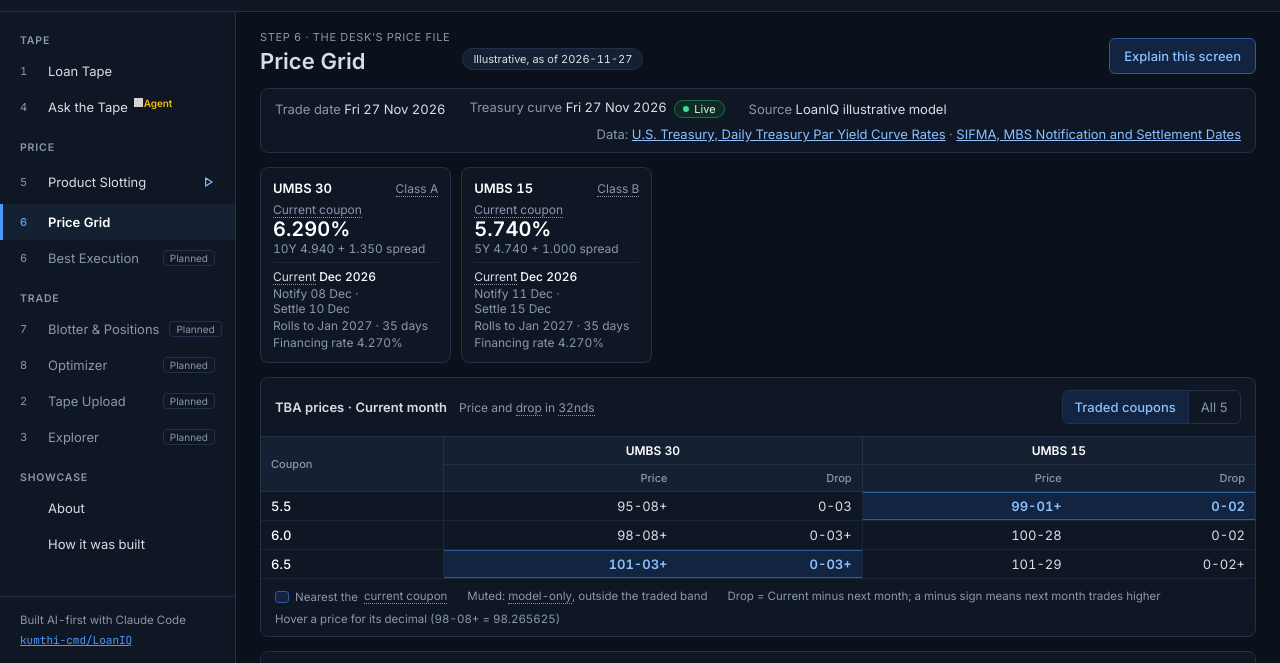
PriceGridScreen › opens the explanation with the Price Grid's terms
The width and height of the screenshot is (1280, 663).
Check: the text "Illustrative, as of 2026-11-27" is shown, box [462,48,643,70]
Step 1. Click the button "Explain this screen" → (1183, 56), box [1109,38,1256,74]
(page scrolled)
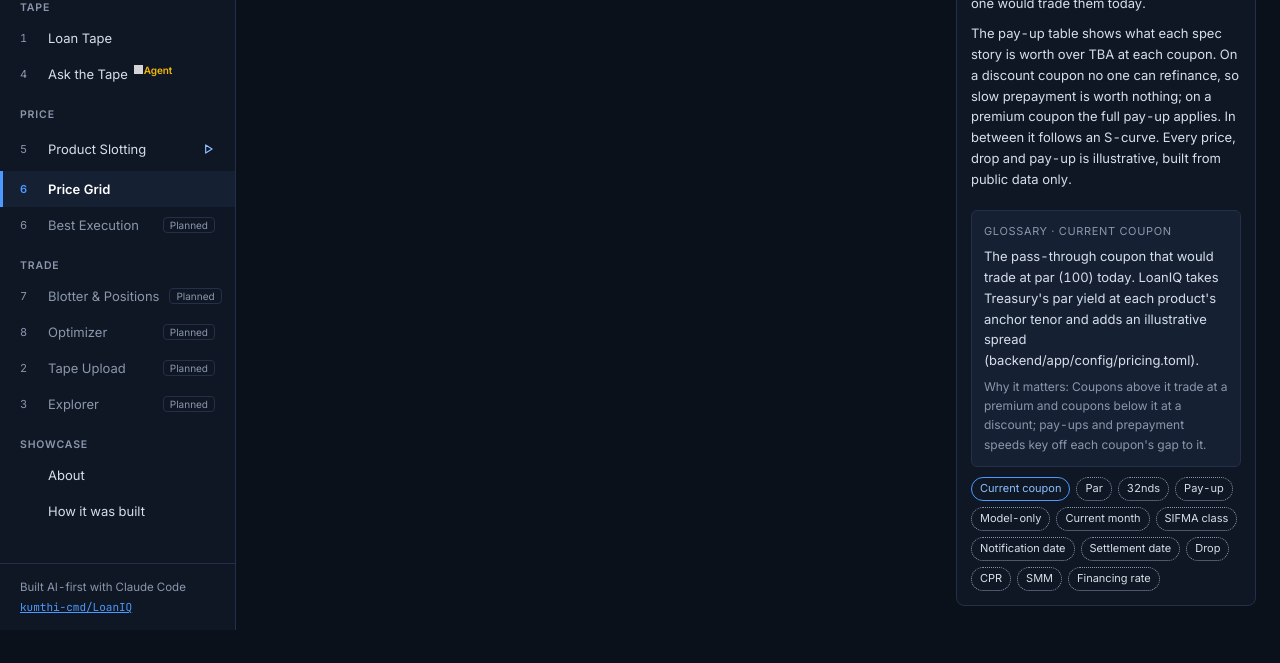
Check: the text "Glossary · Current coupon" is shown, box [984,224,1172,238]
Step 2. Click the button "Drop" → (1208, 549), box [1186,537,1229,561]
(page scrolled)
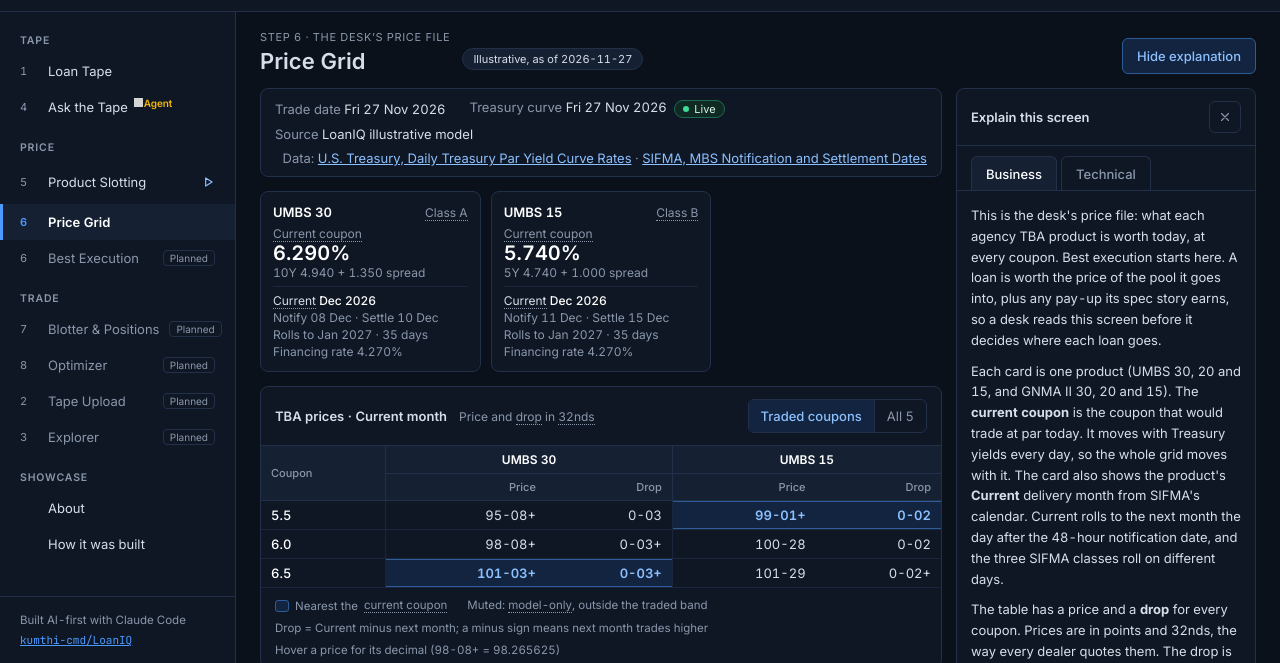
Step 3. Click the button "Hide explanation" → (1189, 56), box [1122,38,1256,74]
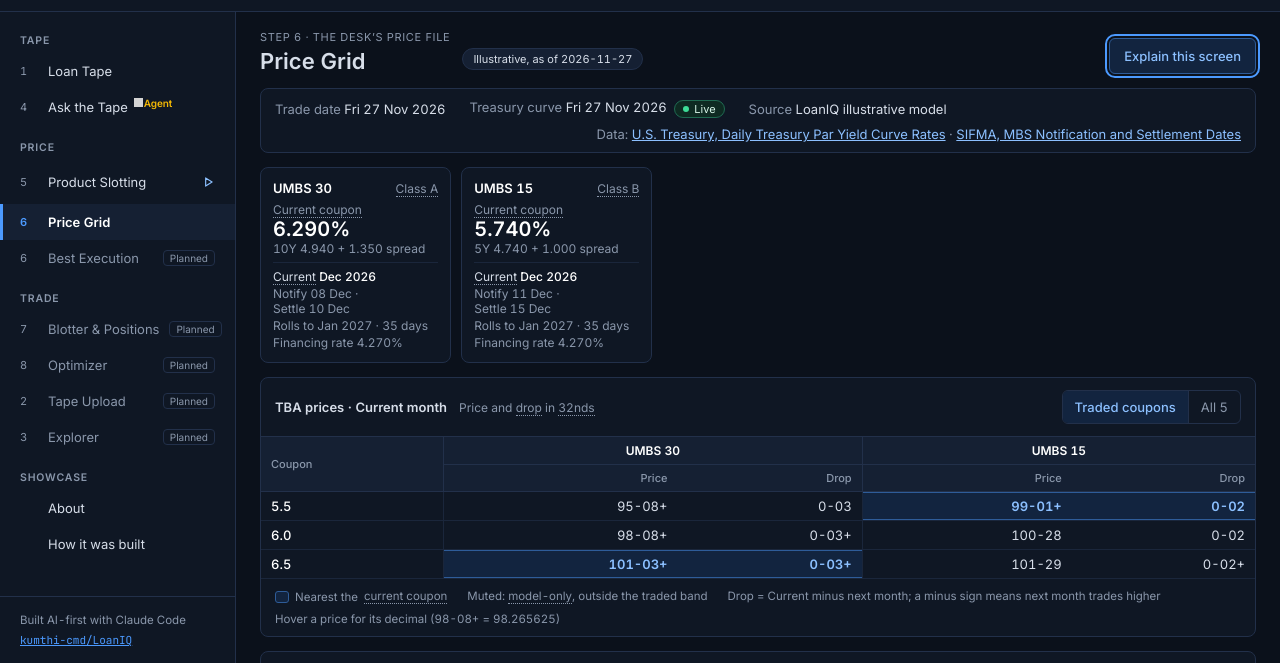
Check: the button "Screen explanation" is gone
